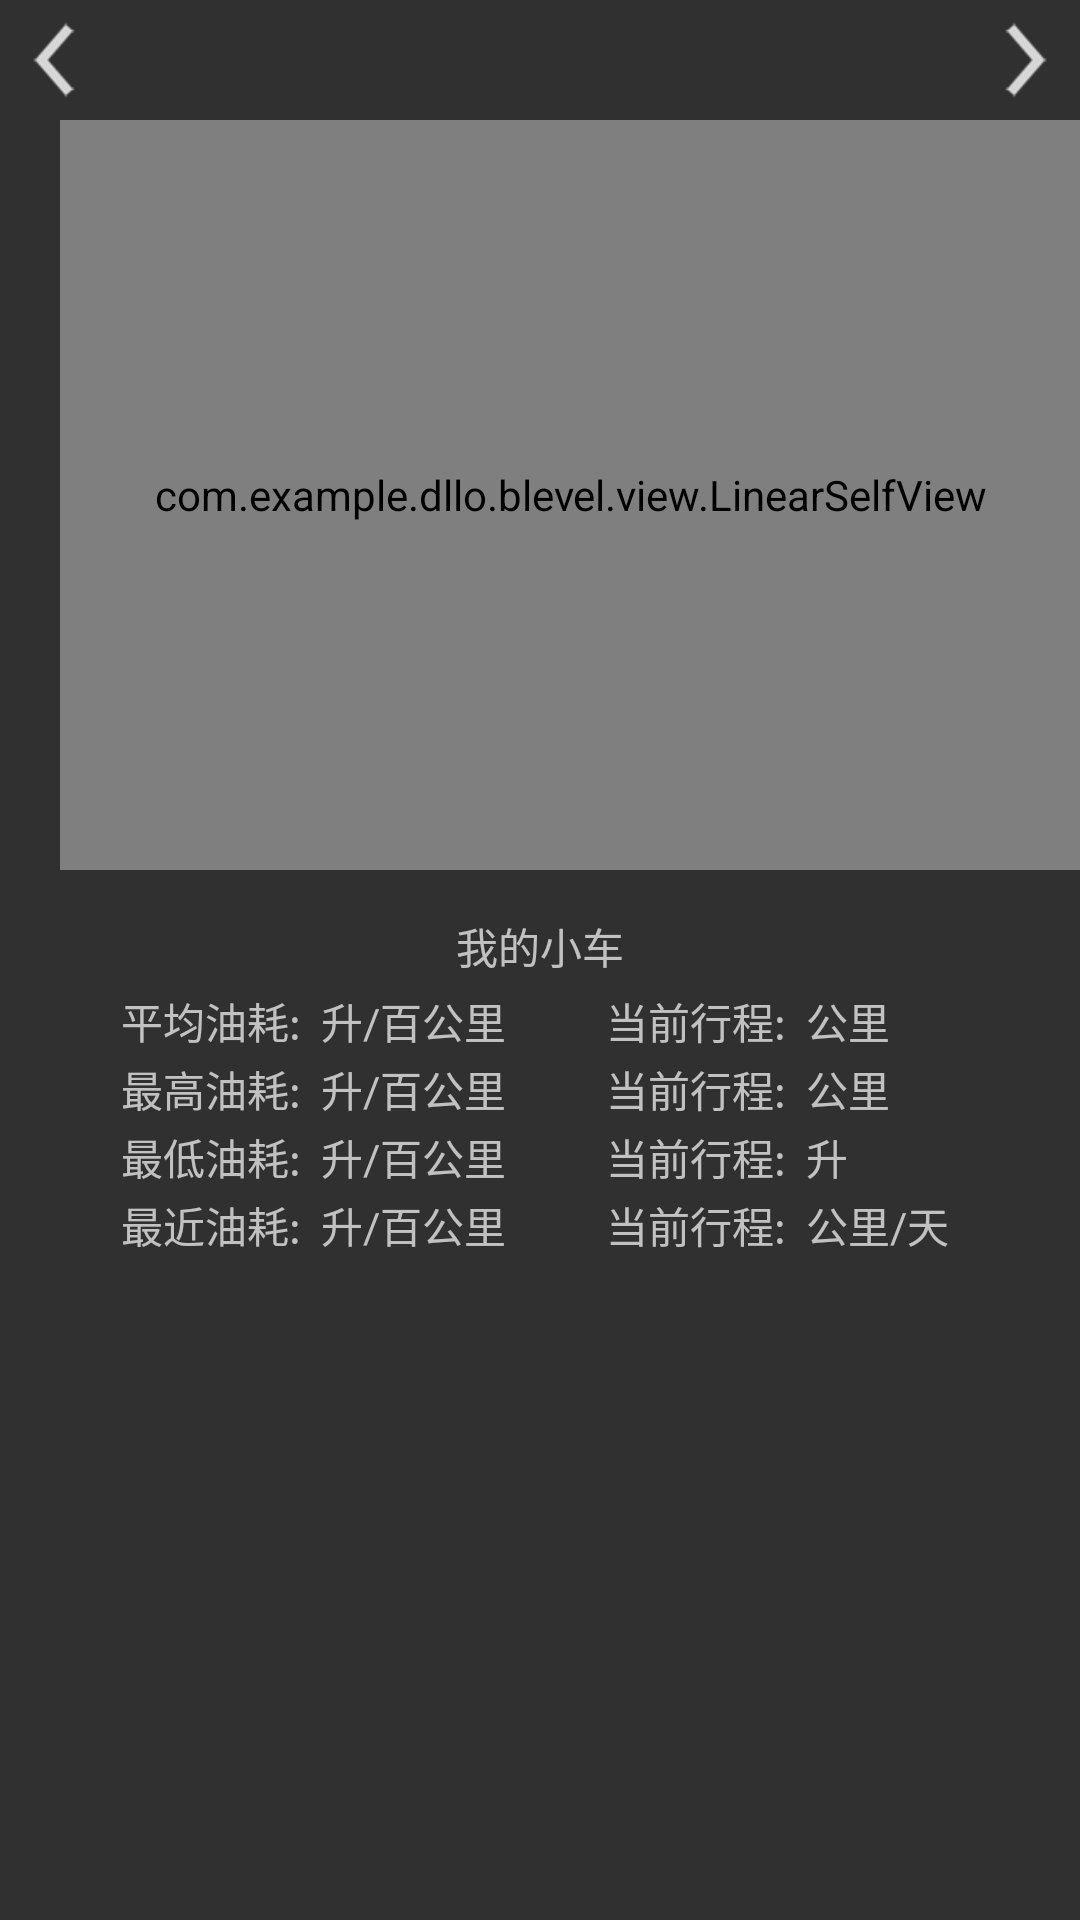

Icon bounding boxes for this 1080 × 1920 phone screenshot, format region(x1, y1, x2, y2):
redirector left: region(34, 23, 74, 97)
redirector right: region(1006, 23, 1046, 97)
